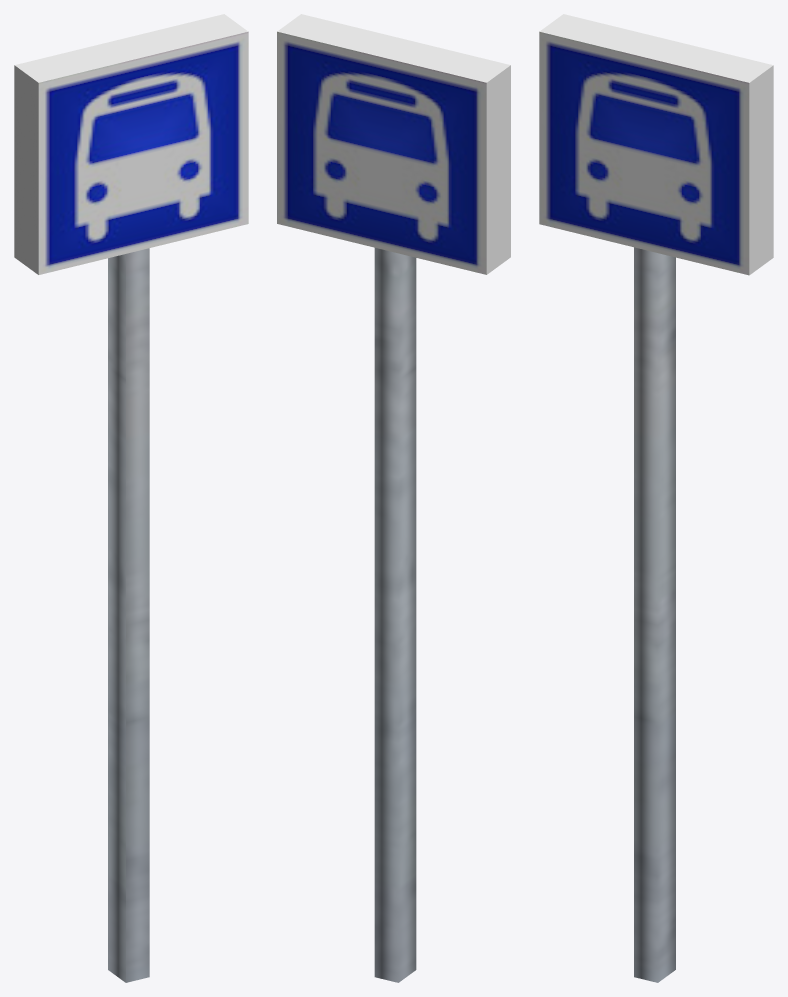
The model's file is Bus_Stop_Sign.fbx.
3 renders of one model, left to right at view 1: azimuth 30°, elevation 25°; view 2: azimuth 150°, elevation 25°; view 3: azimuth 330°, elevation 25°, orthographic.
Parts seen in each view (by area): view 1: Bus_Stop_Sign; view 2: Bus_Stop_Sign; view 3: Bus_Stop_Sign.
Boxes of the visible parts, box(x1,y1,x2,y2) form: Bus_Stop_Sign: box(14, 14, 248, 982); Bus_Stop_Sign: box(277, 14, 510, 982); Bus_Stop_Sign: box(539, 14, 773, 982).
Bounding box in the file's own units: 0.4937 × 0.0984 × 2.08.
